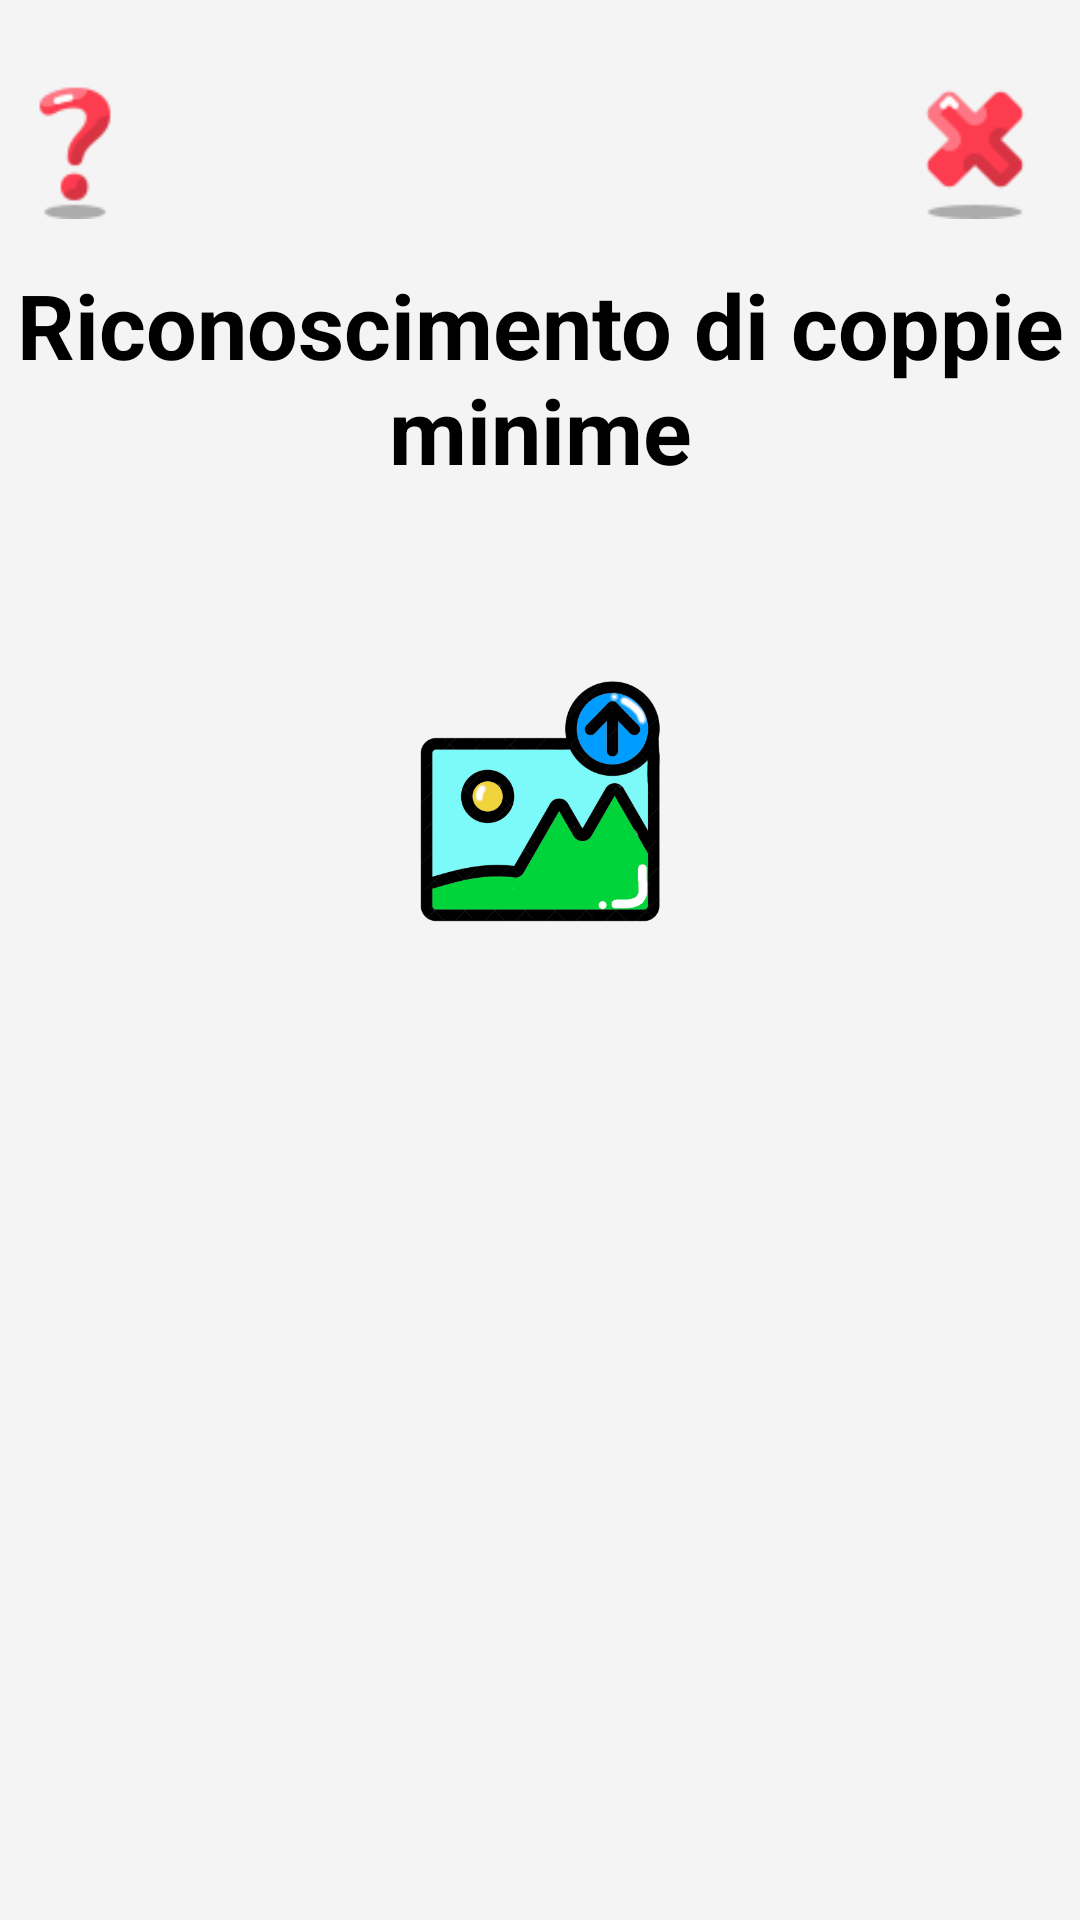

Locate icon controls on the screen. Image size 1080px×1920px, boxes as (x1, y1, x2, y2).
exit: (926, 91, 1024, 219)
help: (39, 87, 111, 219)
